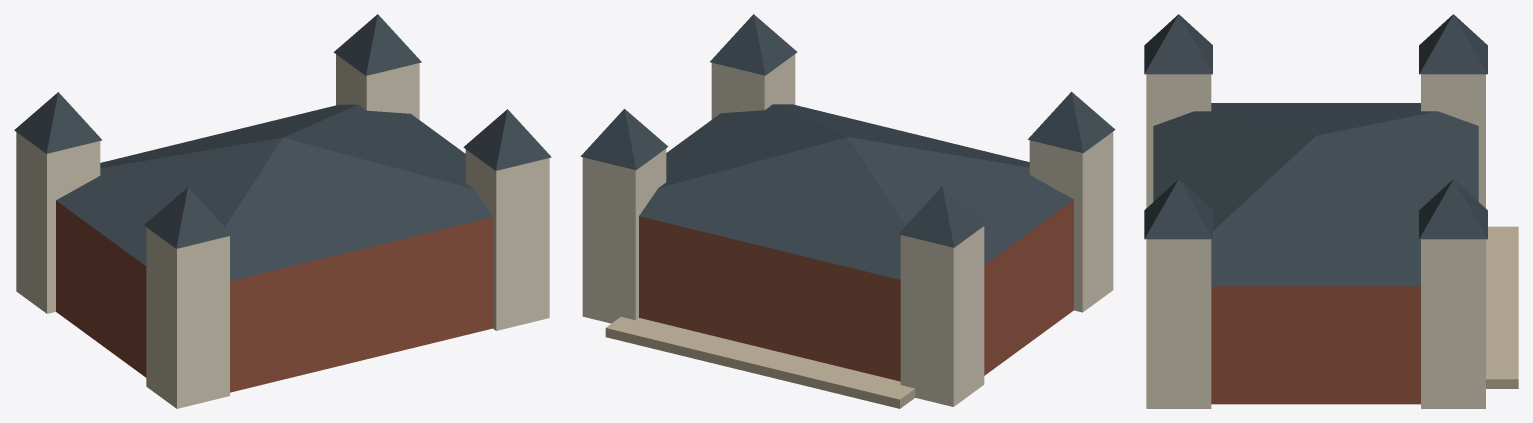
File: d-it-02-castello-valentino.glb
3 views of the same model, side by side, from view 1: azimuth 30°, elevation 25°; view 2: azimuth 150°, elevation 25°; view 3: azimuth 270°, elevation 25° (orthographic). The views are drawn at different scales.
Visible parts, largest first — view 1: part9, part0, part1, part5, part3, part7, part2, part8, part4, part6; view 2: part9, part0, part3, part7, part10, part1, part5, part4, part8, part6, part2; view 3: part9, part0, part5, part7, part10, part1, part3, part4, part8, part2, part6.
Part boxes in pixels (x1,y1,x2,y2): part9: [56, 104, 492, 280]; part0: [56, 200, 492, 392]; part1: [146, 227, 229, 408]; part5: [465, 149, 549, 330]; part3: [16, 132, 100, 313]; part7: [336, 54, 419, 119]; part2: [144, 187, 231, 248]; part8: [333, 14, 421, 75]; part4: [14, 92, 102, 153]; part6: [463, 109, 551, 170]; part9: [639, 104, 1073, 279]; part0: [639, 199, 1073, 381]; part3: [900, 226, 984, 406]; part7: [582, 148, 666, 323]; part10: [605, 317, 915, 408]; part1: [1029, 132, 1113, 312]; part5: [711, 54, 795, 119]; part4: [898, 186, 986, 247]; part8: [580, 109, 668, 169]; part6: [710, 14, 797, 75]; part2: [1028, 91, 1115, 153]; part9: [1153, 103, 1478, 286]; part0: [1211, 286, 1420, 404]; part5: [1146, 239, 1211, 408]; part7: [1421, 239, 1485, 408]; part10: [1486, 226, 1518, 388]; part1: [1146, 74, 1211, 207]; part3: [1421, 74, 1485, 208]; part4: [1419, 14, 1487, 74]; part8: [1419, 179, 1487, 239]; part2: [1144, 14, 1212, 74]; part6: [1144, 179, 1212, 239].
Size of the model in its own units: 63500 by 33000 by 51751.
